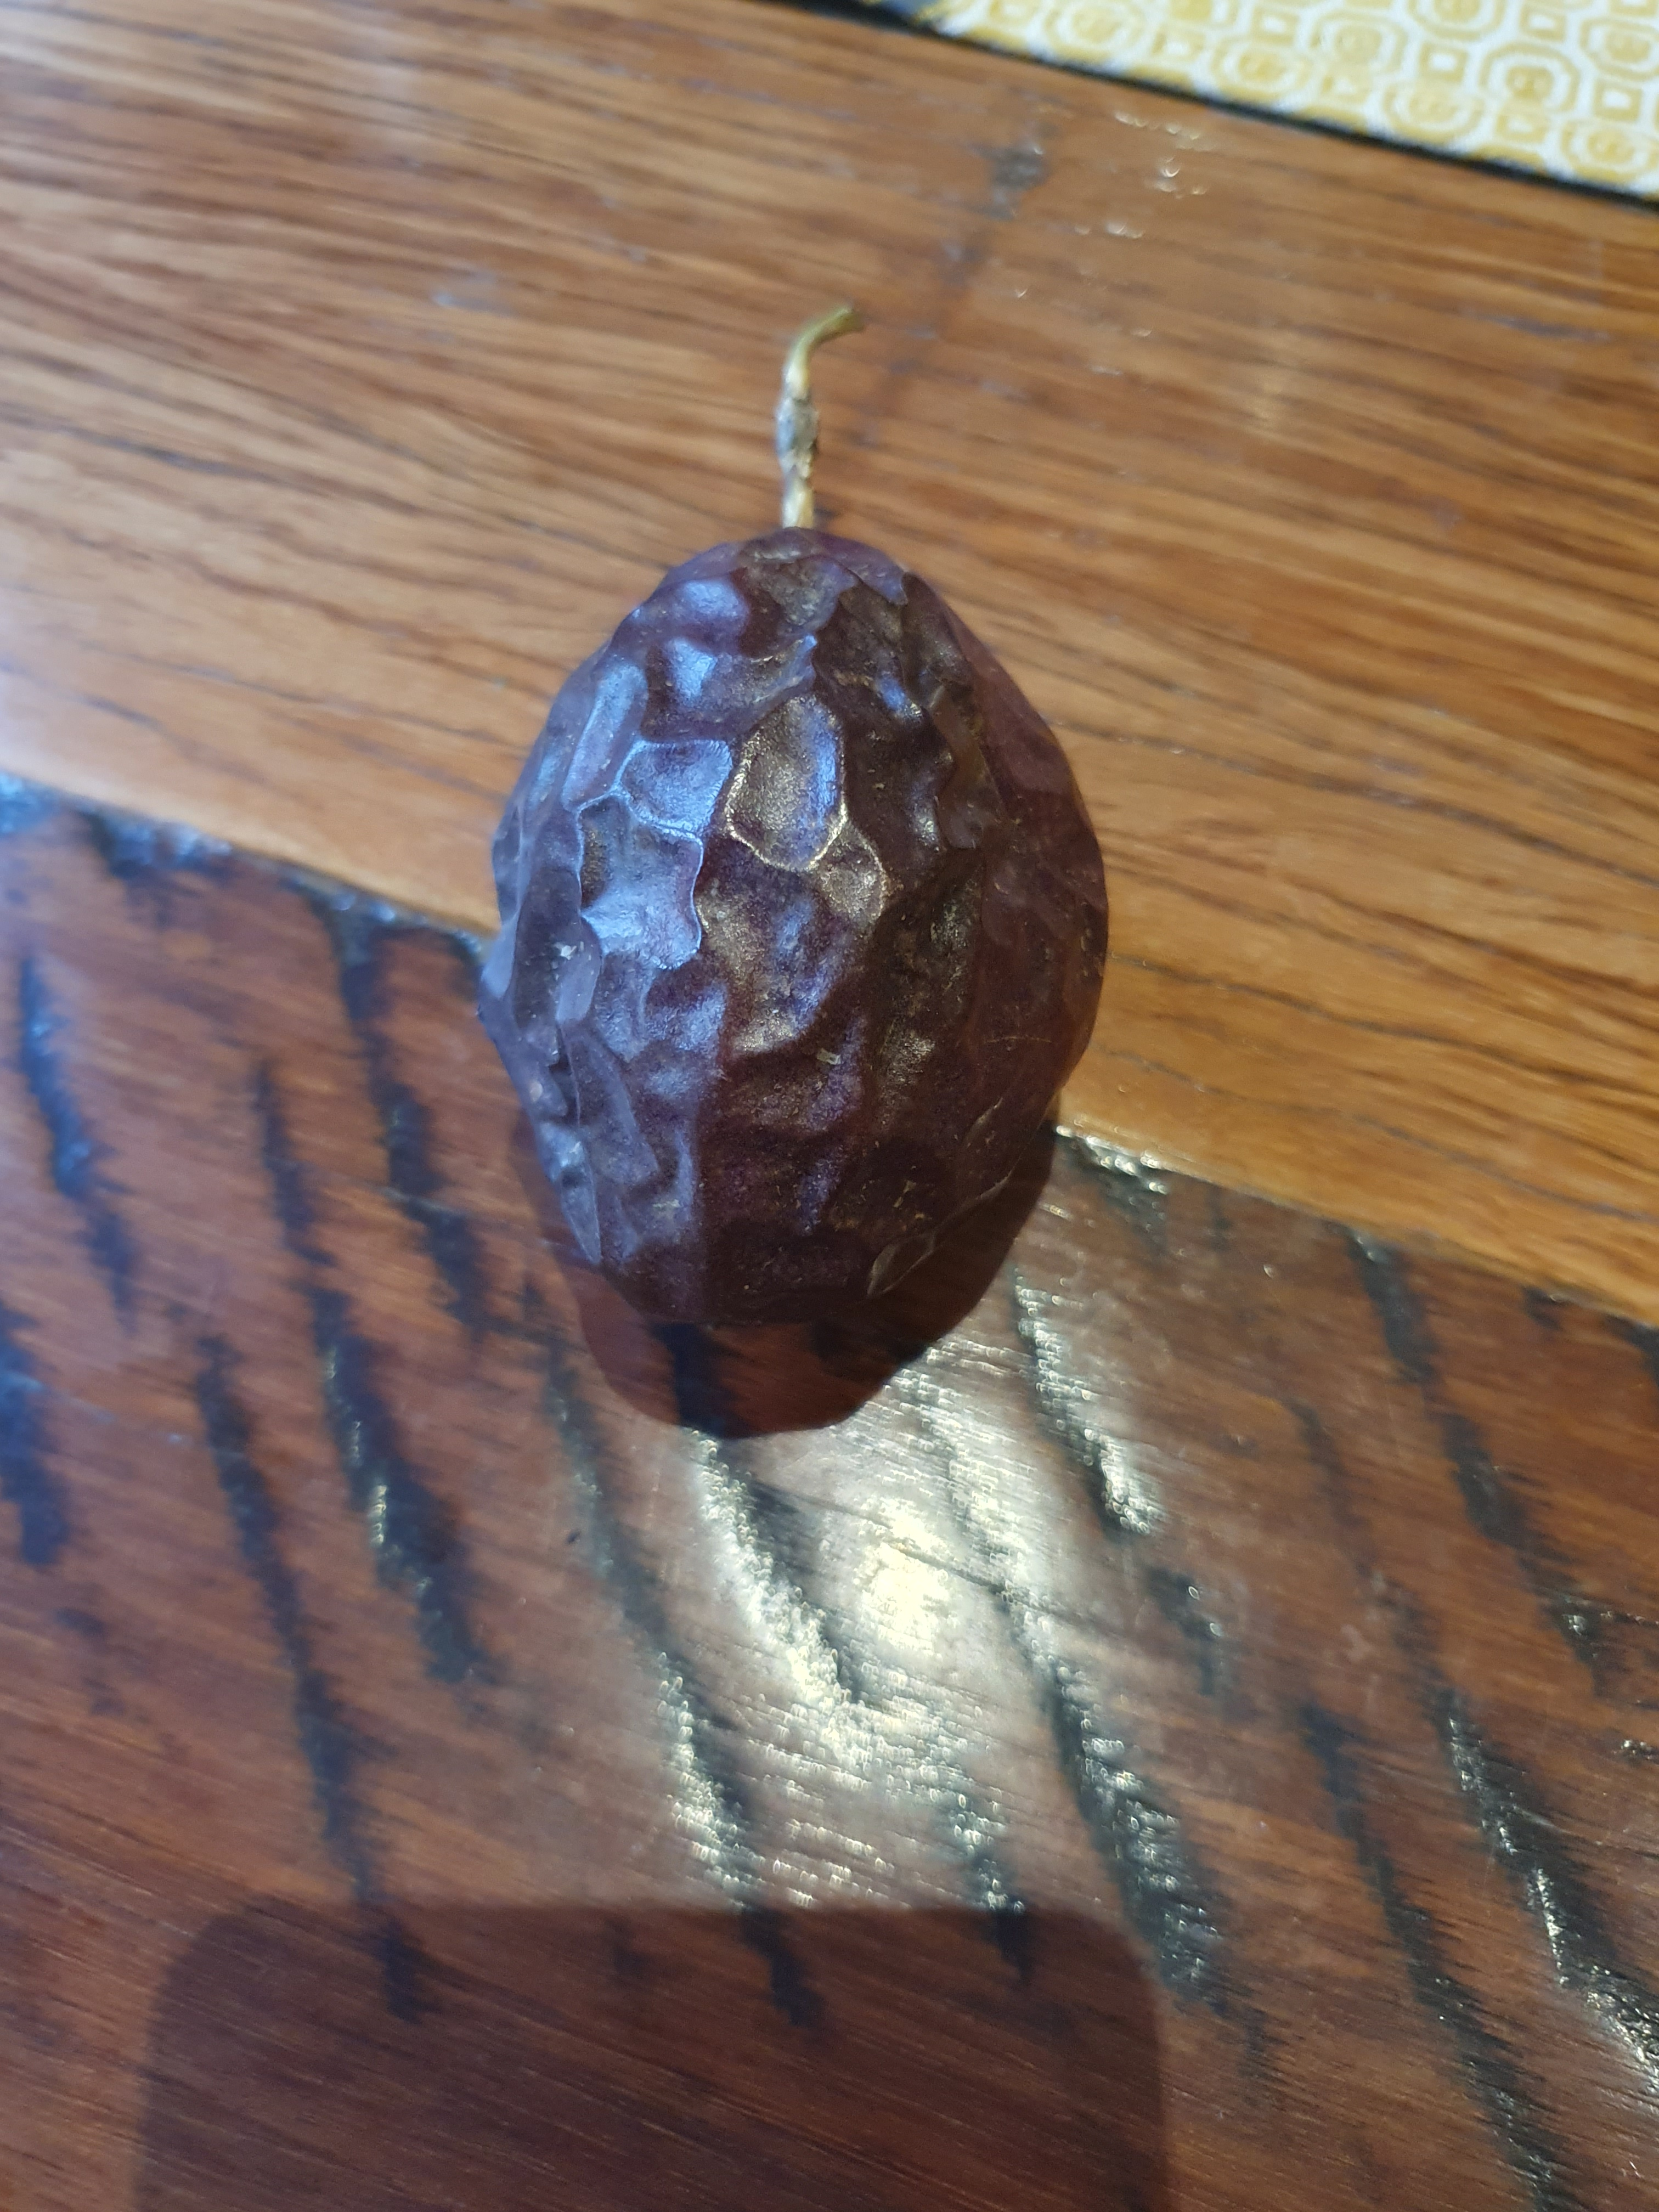passionfruit: (450, 277, 1100, 1366)
